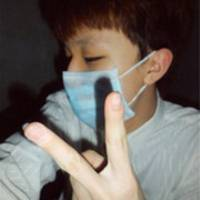face_mask: (61, 17, 139, 123)
